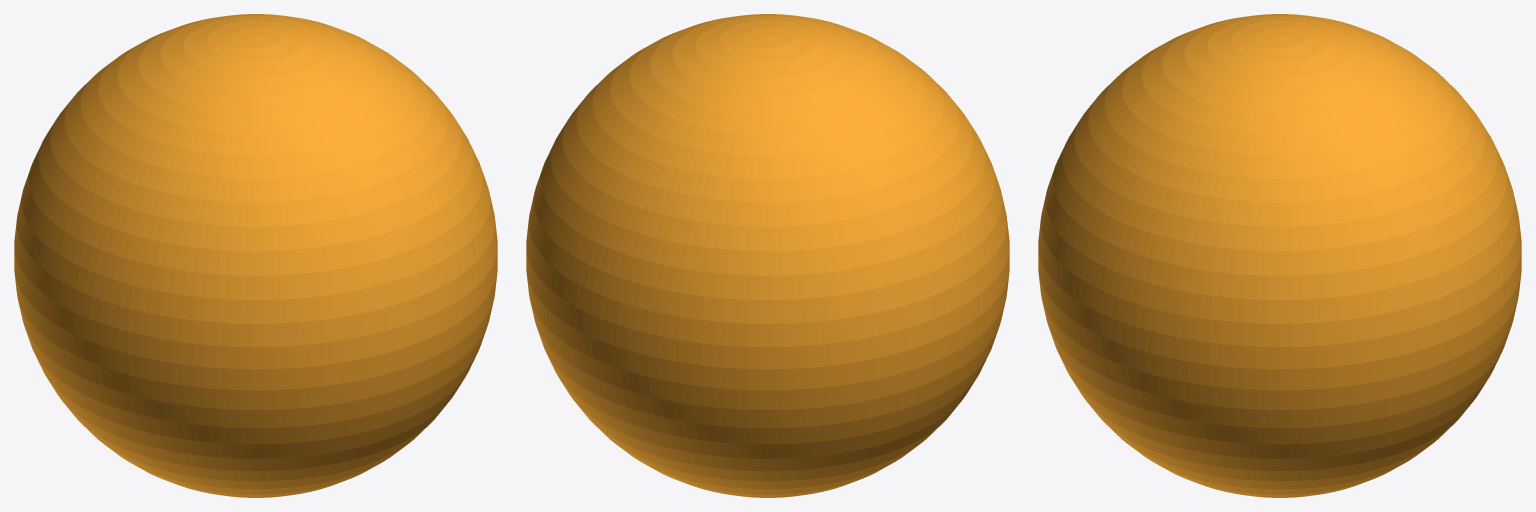
Rendered from ball_orange.glb.
The picture shows the model from 3 angles, left to right: view 1: azimuth 30°, elevation 25°; view 2: azimuth 150°, elevation 25°; view 3: azimuth 270°, elevation 25°; orthographic projection.
Parts seen in each view (by area): view 1: geometry_0; view 2: geometry_0; view 3: geometry_0.
Part boxes in pixels (bbox=[...]): geometry_0: bbox=[14, 14, 497, 497]; geometry_0: bbox=[526, 14, 1009, 497]; geometry_0: bbox=[1038, 14, 1521, 497].
Bounding box in the file's own units: 0.2197 × 0.22 × 0.2197.
